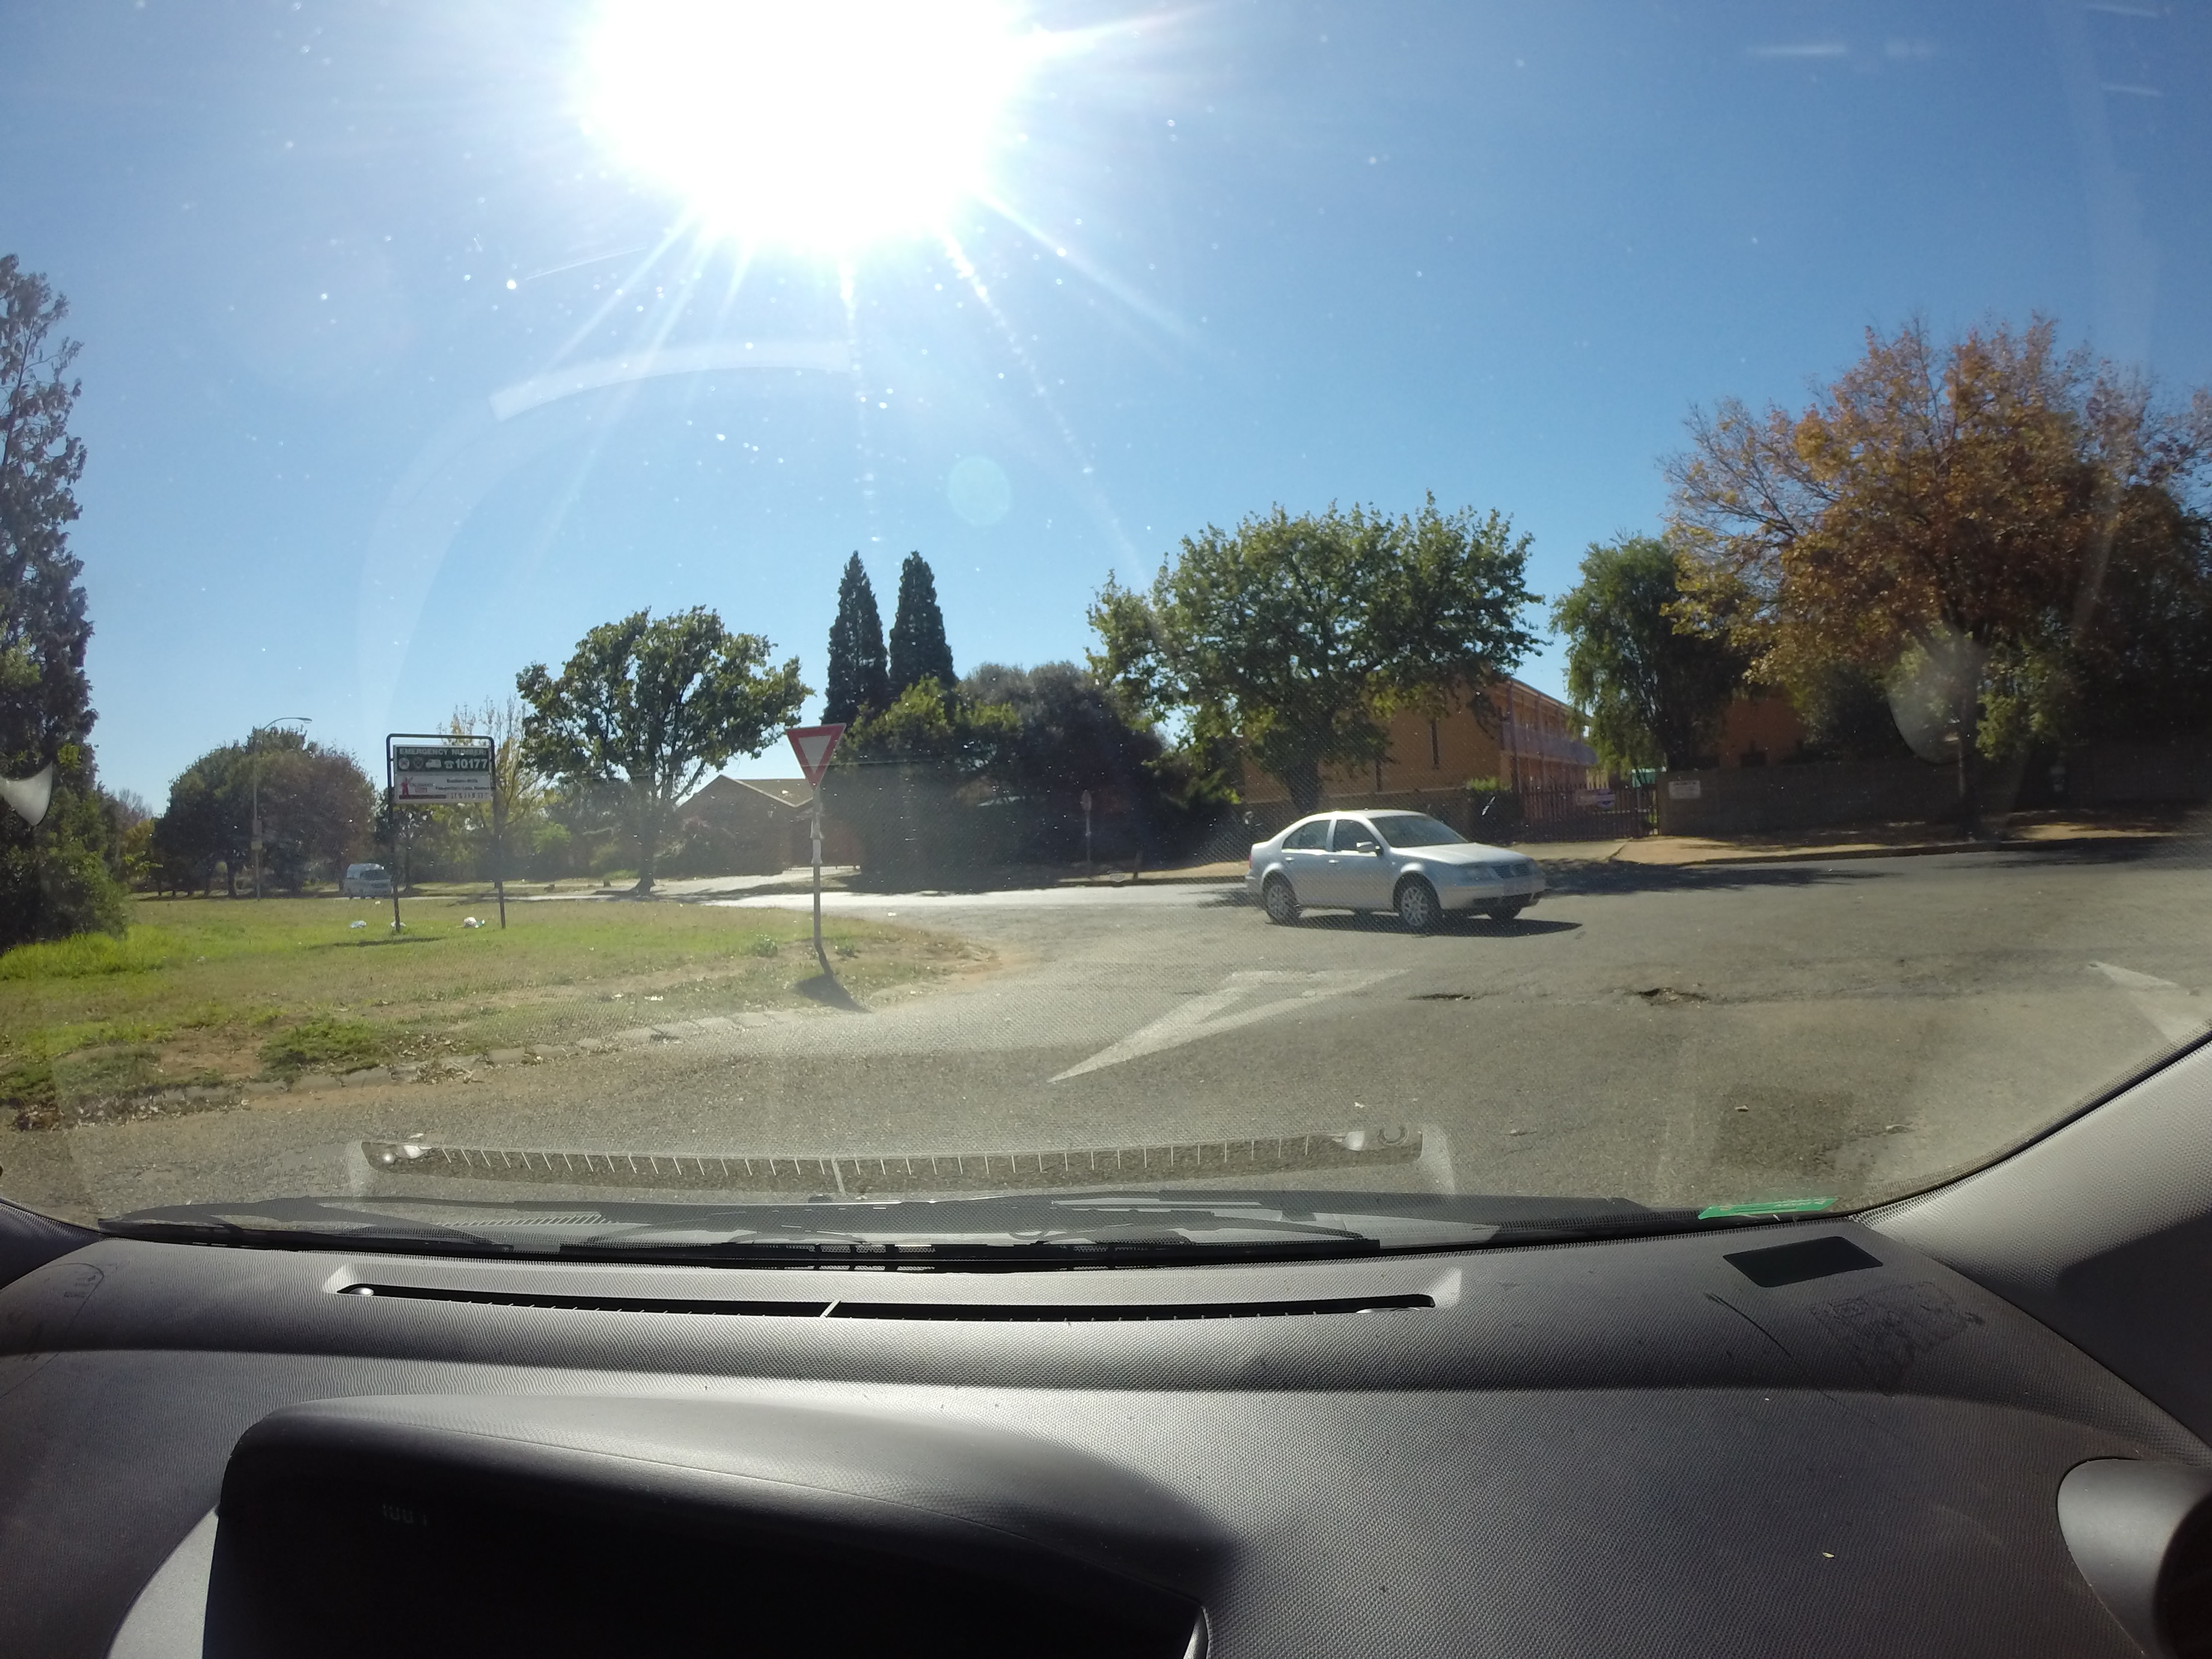pothole: (1327, 950, 1548, 1051), (1616, 957, 1728, 1033)
